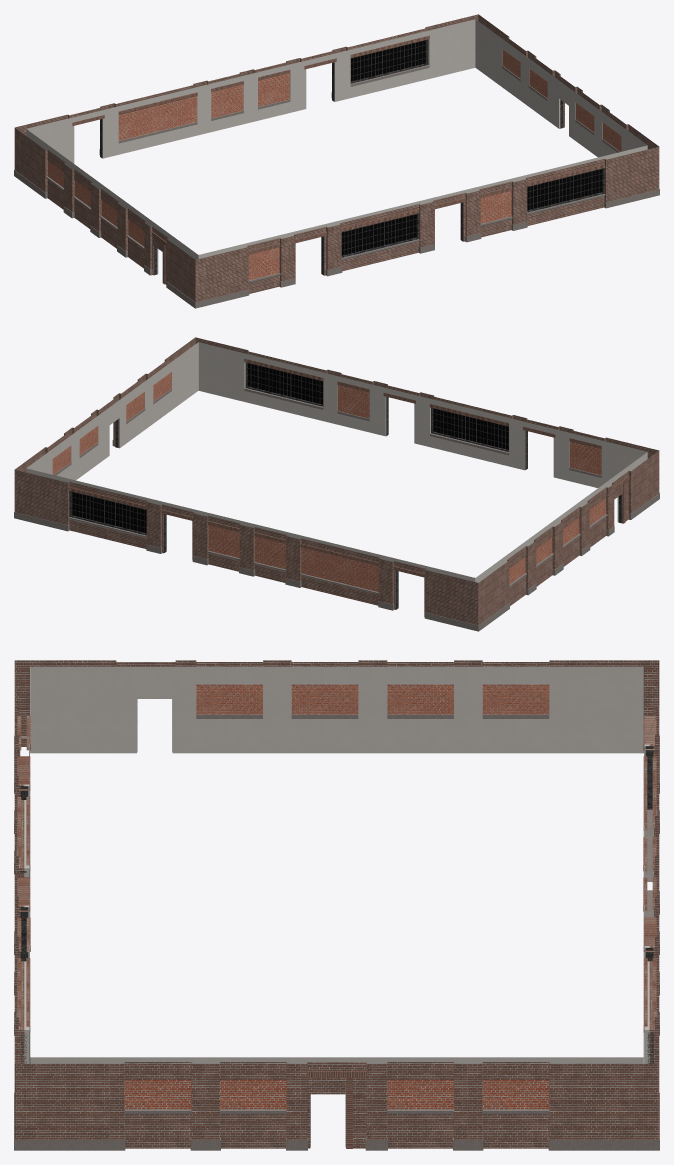
The model's file is BuildingA_Bottom_VarB.fbx.
The picture shows the model from 3 angles, top to bottom: view 1: azimuth 30°, elevation 25°; view 2: azimuth 150°, elevation 25°; view 3: azimuth 270°, elevation 25°; orthographic projection. The views are drawn at different scales.
Visible parts, largest first — view 1: BuildingA_Bottom_VarB; view 2: BuildingA_Bottom_VarB; view 3: BuildingA_Bottom_VarB.
Boxes of the visible parts, bbox=[...] form: BuildingA_Bottom_VarB: bbox=[14, 14, 659, 308]; BuildingA_Bottom_VarB: bbox=[14, 337, 659, 631]; BuildingA_Bottom_VarB: bbox=[14, 660, 659, 1150].
Size of the model in its own units: 4007 by 400 by 2707.
